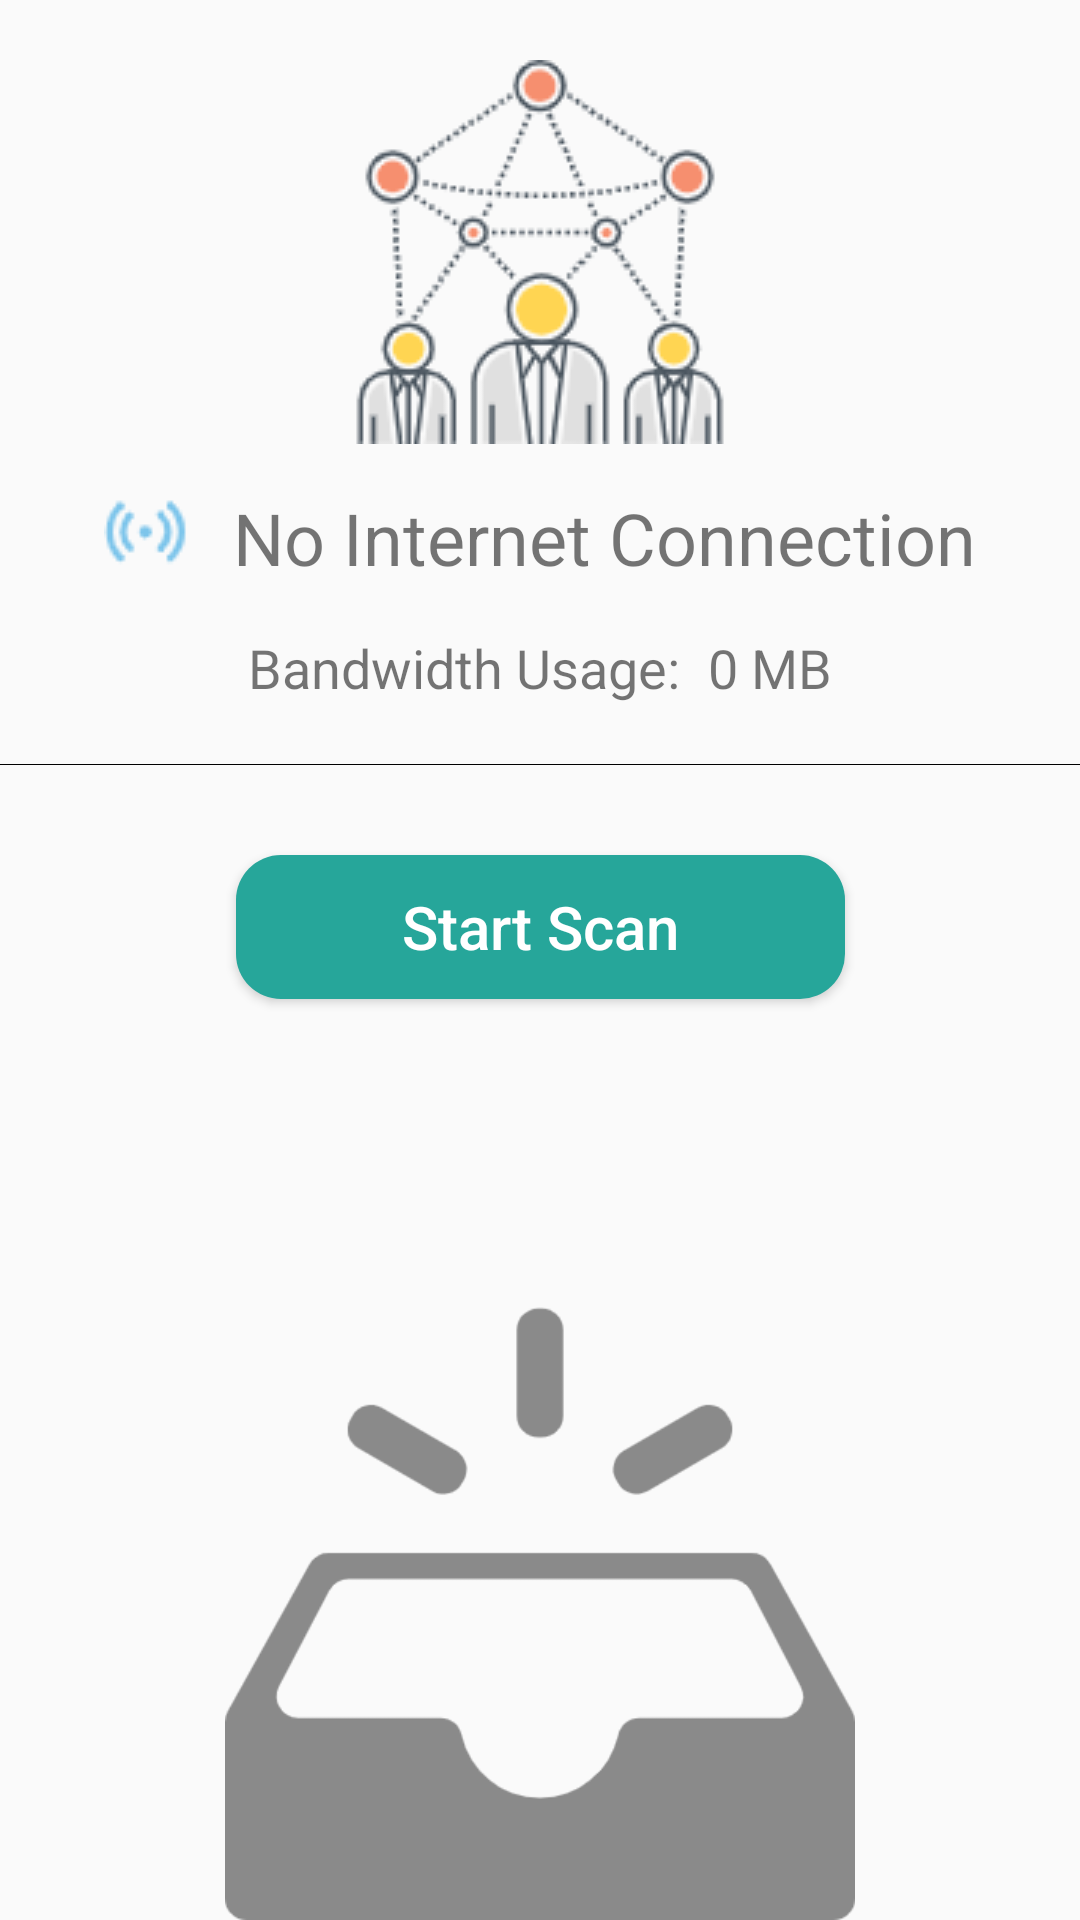

Where icons sit on this 1080w x 1920h app screen, as [x1=x1, y1=y1, x2=x2, y2=y2]:
created wifi: [x1=104, y1=500, x2=186, y2=562]
